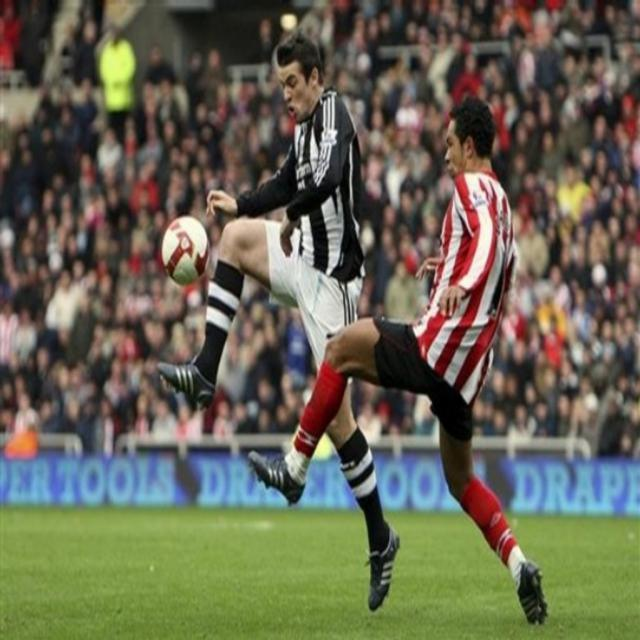football: (153, 213, 216, 280)
